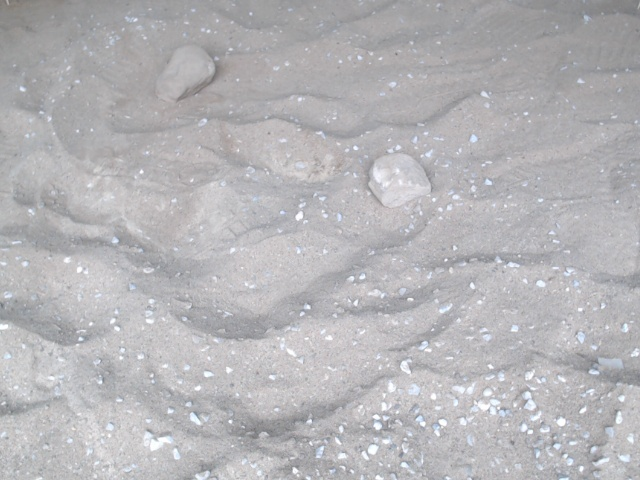rock: (148, 39, 222, 110), (361, 148, 437, 214)
